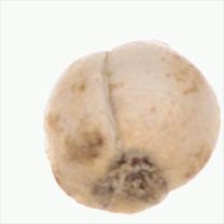L4: (45, 40, 221, 215)
